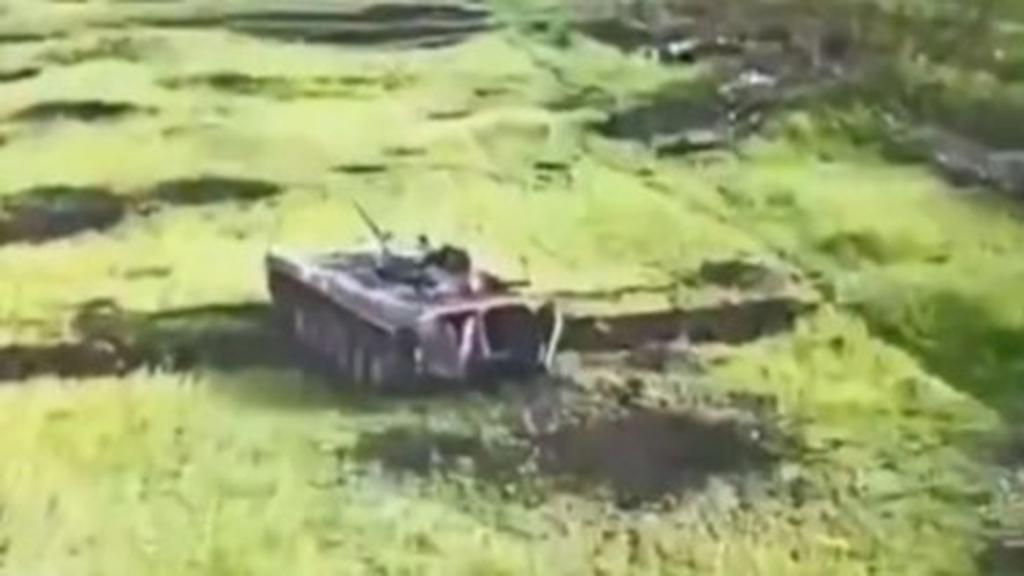APC-IFV: (260, 208, 560, 388)
